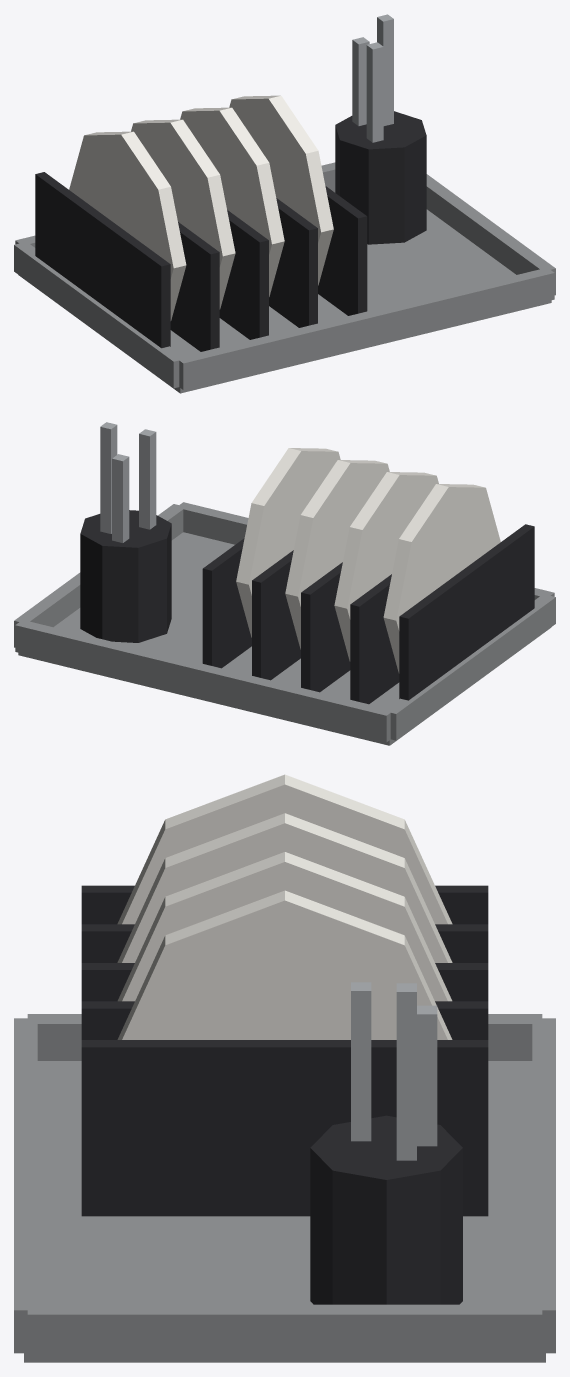
The model's file is FN_Rack_Dish.glb.
3 renders of one model, top to bottom at view 1: azimuth 30°, elevation 25°; view 2: azimuth 150°, elevation 25°; view 3: azimuth 270°, elevation 25°, orthographic. The views are drawn at different scales.
Parts seen in each view (by area): view 1: FN_Rack_Dish; view 2: FN_Rack_Dish; view 3: FN_Rack_Dish.
Boxes of the visible parts, x1,y1,x2,y2 form: FN_Rack_Dish: (14, 14, 555, 393); FN_Rack_Dish: (14, 422, 555, 745); FN_Rack_Dish: (14, 774, 555, 1362).
Bounding box in the file's own units: 0.42 × 0.22 × 0.32.
Materials: 1 (1 with a texture image).
